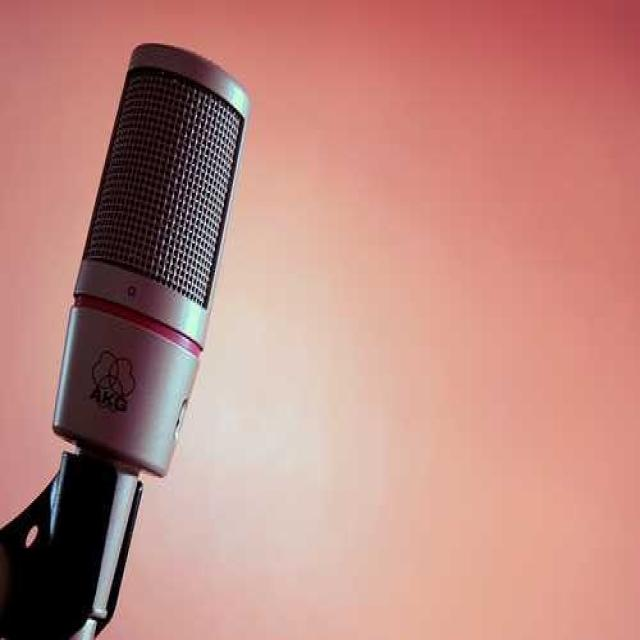microphone: (51, 49, 248, 482)
